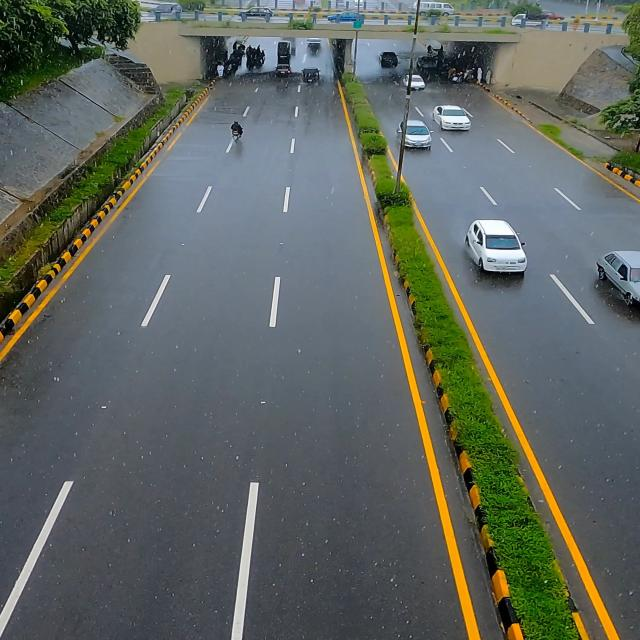Car: (468, 217, 530, 278), (588, 248, 640, 314), (432, 103, 476, 134), (398, 119, 436, 153)
